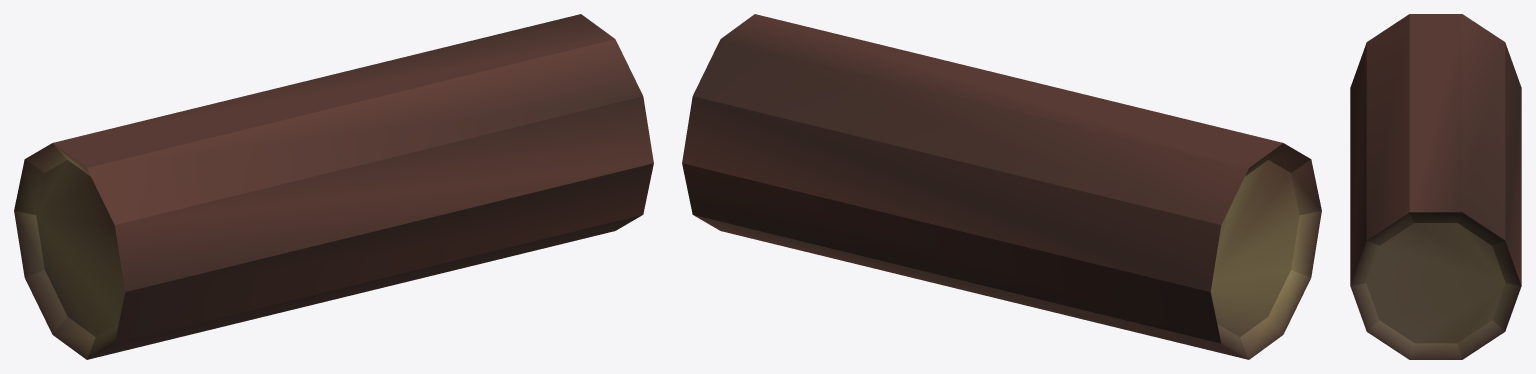
Rendered from f6 wood DOUBLE.fbx.
3 renders of one model, left to right at view 1: azimuth 30°, elevation 25°; view 2: azimuth 150°, elevation 25°; view 3: azimuth 270°, elevation 25°, orthographic. The views are drawn at different scales.
Parts seen in each view (by area): view 1: Circle; view 2: Circle; view 3: Circle.
Part boxes in pixels (x1,y1,x2,y2): Circle: (14,14,653,359); Circle: (682,14,1321,359); Circle: (1350,14,1521,359).
Size of the model in its own units: 548 by 190 by 200.
